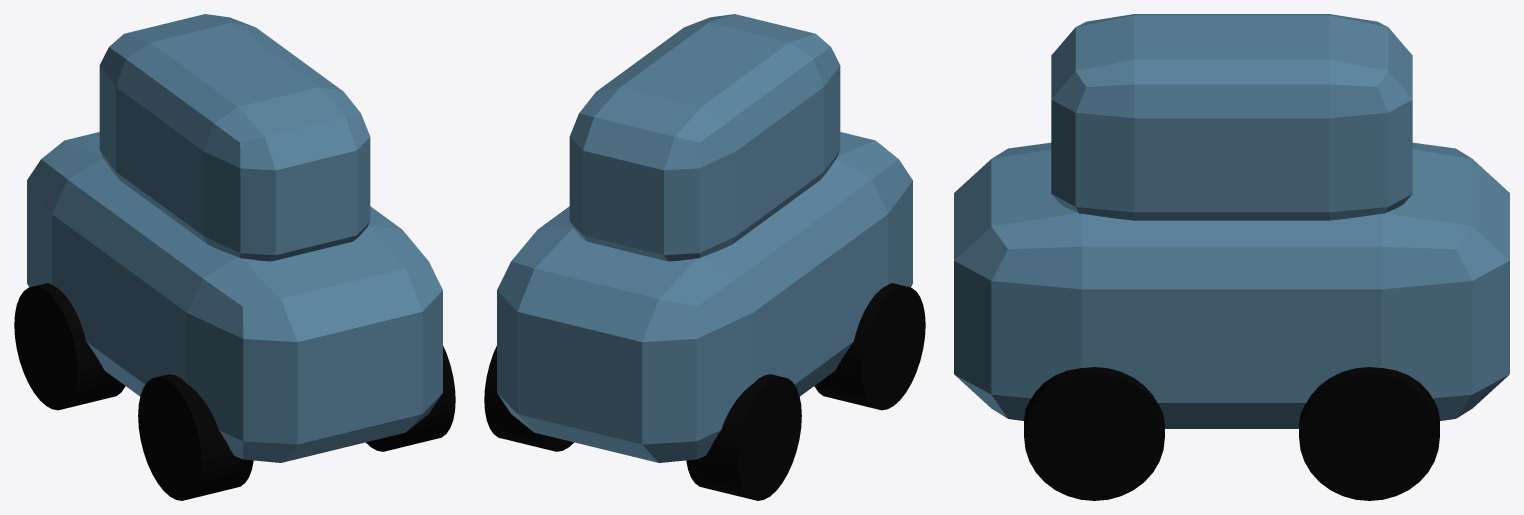
File: toy_car.fbx
3 views of the same model, side by side, from view 1: azimuth 30°, elevation 25°; view 2: azimuth 150°, elevation 25°; view 3: azimuth 270°, elevation 25° (orthographic). The views are drawn at different scales.
Parts seen in each view (by area): view 1: Cube, Cube.001, Cylinder; view 2: Cube, Cube.001, Cylinder; view 3: Cube, Cube.001, Cylinder.
Boxes of the visible parts, left/top/right/bottom form: Cube: left=27, top=132, right=442, bottom=462; Cube.001: left=99, top=14, right=370, bottom=261; Cylinder: left=14, top=283, right=455, bottom=500; Cube: left=497, top=132, right=912, bottom=462; Cube.001: left=569, top=14, right=840, bottom=261; Cylinder: left=484, top=283, right=925, bottom=500; Cube: left=954, top=142, right=1509, bottom=428; Cube.001: left=1051, top=14, right=1412, bottom=220; Cylinder: left=1024, top=367, right=1439, bottom=500.
Size of the model in its own units: 315 by 421 by 537.
